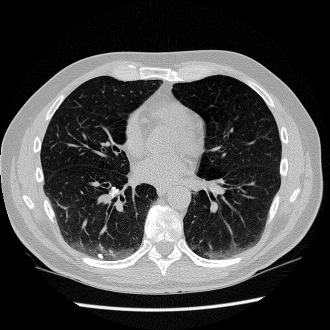nodule: (97, 253, 103, 259)
